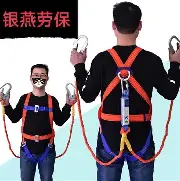safety belt: (89, 48, 161, 167), (18, 92, 58, 164)
